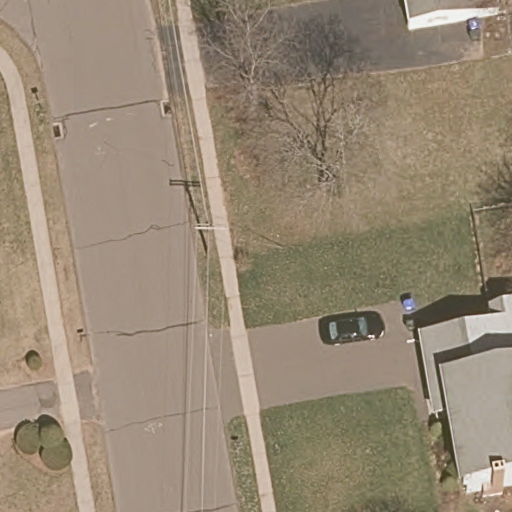DT: (193, 220, 226, 255)
